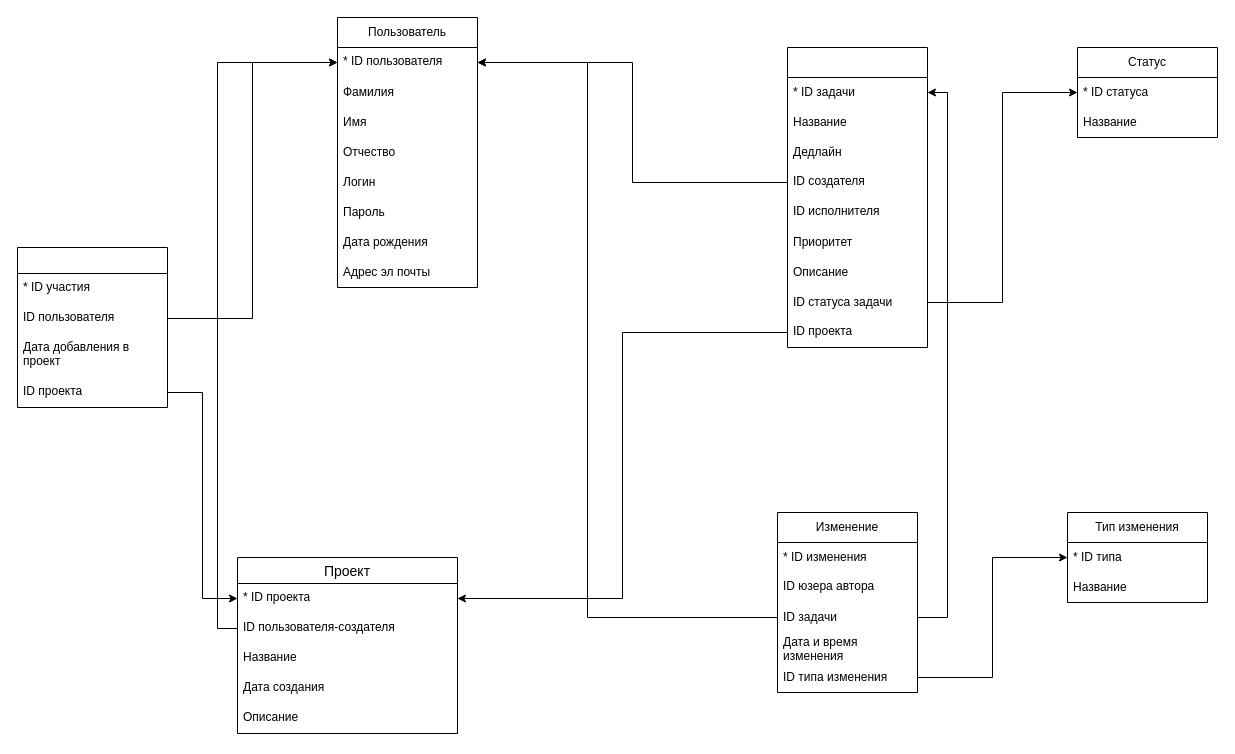
Image size: 1235x754. Some labels were removed from this diagram. The box of each missing label's shape, as (x1, y1, x2, y2) in pixels:
Задача: (786, 46, 928, 348)
Участие в проекте: (16, 246, 168, 408)
